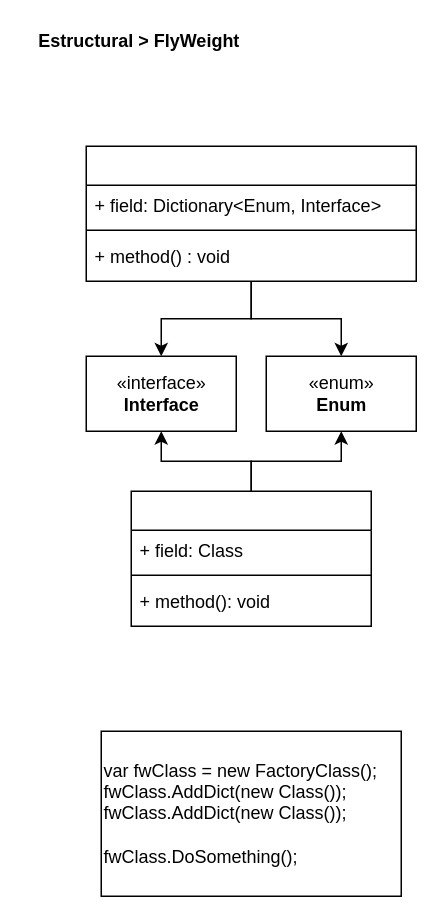
Some shapes in this 443 by 923 pixel diagram are drawn without their labels. The box of each missing label's shape, as (x1, y1, x2, y2) in pixels:
Class : Interface: (130, 490, 371, 626)
FactoryClass: (85, 145, 416, 281)
